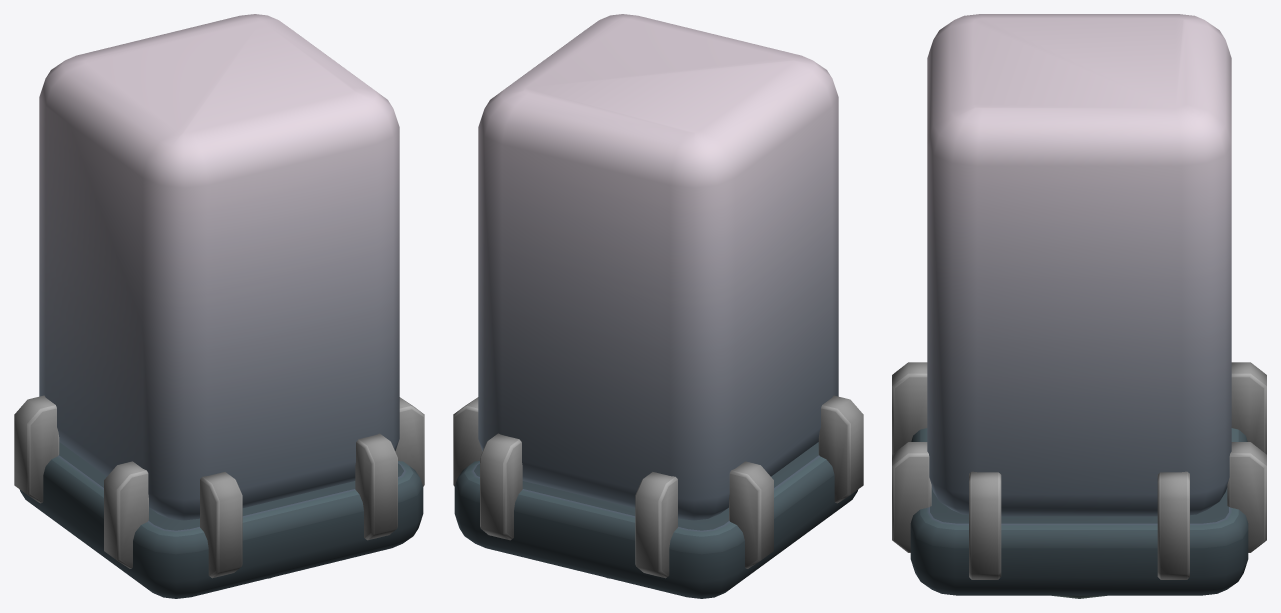
The model's file is sp_food_grower_can_bellpepper.fbx.
3 renders of one model, left to right at view 1: azimuth 30°, elevation 25°; view 2: azimuth 150°, elevation 25°; view 3: azimuth 270°, elevation 25°, orthographic. The views are drawn at different scales.
Parts seen in each view (by area): view 1: food_canister_bellpepper; view 2: food_canister_bellpepper; view 3: food_canister_bellpepper.
Boxes of the visible parts, x1,y1,x2,y2 form: food_canister_bellpepper: (14, 14, 424, 598); food_canister_bellpepper: (453, 14, 863, 598); food_canister_bellpepper: (892, 14, 1266, 598).
Size of the model in its own units: 52.23 by 78.42 by 52.23.
